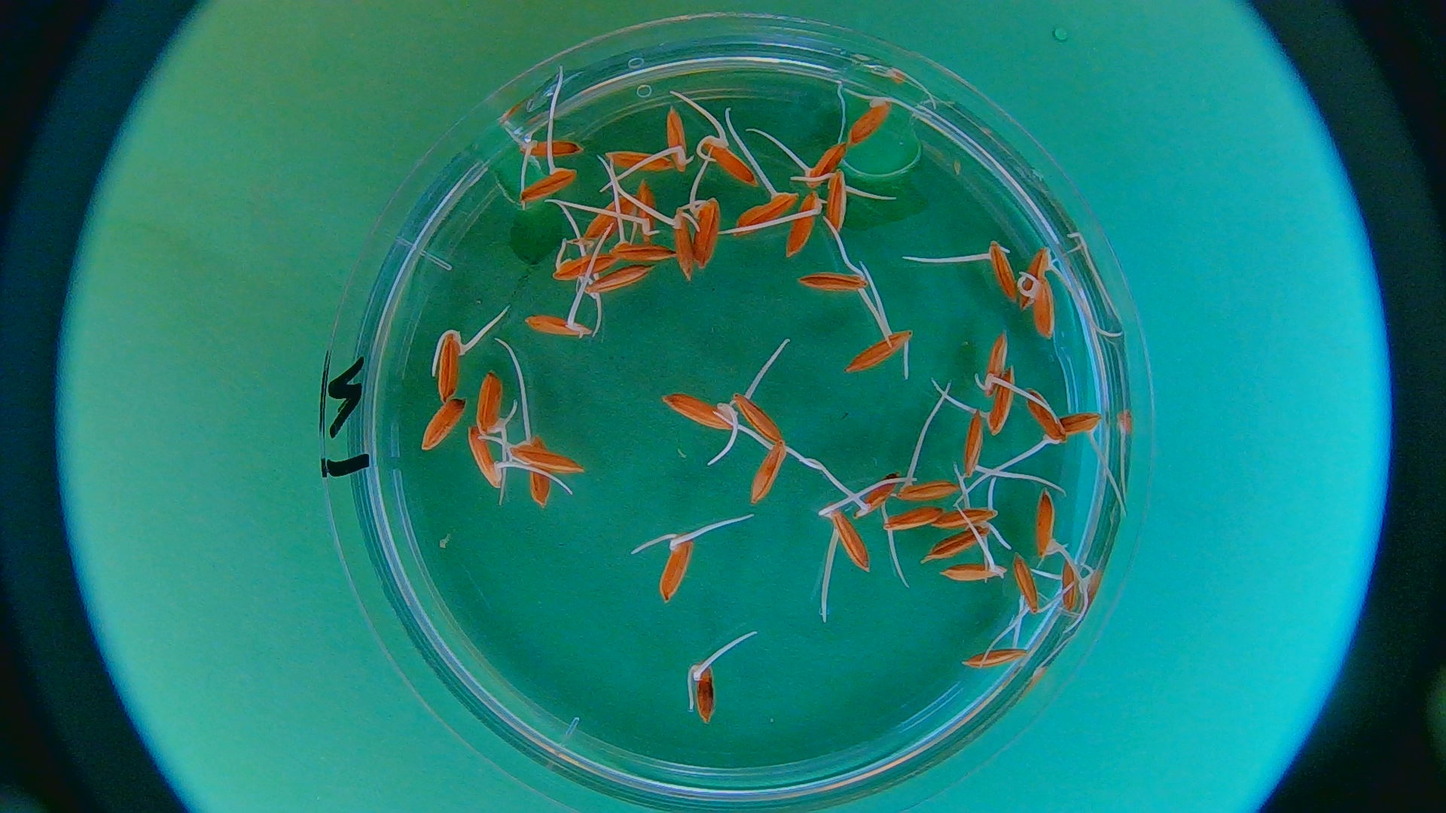no: (420, 397, 465, 453), (528, 437, 554, 510), (603, 147, 672, 172)
yes: (923, 517, 1009, 565), (848, 324, 912, 379), (663, 392, 738, 434), (697, 136, 753, 187), (732, 388, 784, 442), (1017, 244, 1060, 309), (1025, 267, 1063, 339), (750, 435, 790, 502), (584, 196, 638, 244), (685, 654, 722, 724), (465, 431, 507, 492), (1023, 391, 1063, 455), (841, 99, 893, 148), (961, 632, 1027, 670), (824, 507, 867, 564), (736, 187, 793, 230), (987, 368, 1020, 442), (473, 372, 511, 436), (659, 532, 694, 599), (662, 109, 694, 181), (982, 239, 1018, 303), (434, 329, 465, 402), (550, 248, 614, 283), (883, 505, 947, 540), (973, 333, 1008, 396), (854, 470, 898, 520), (508, 445, 581, 475), (1010, 553, 1041, 623), (822, 172, 856, 234), (800, 269, 868, 300), (1036, 488, 1066, 558), (936, 495, 996, 530), (799, 146, 849, 188), (691, 196, 719, 270), (525, 312, 591, 343), (518, 166, 576, 201), (787, 193, 822, 251), (668, 205, 695, 279), (939, 555, 1009, 583), (959, 410, 989, 474), (1056, 556, 1090, 612), (897, 474, 960, 504), (609, 233, 667, 263), (633, 180, 660, 241), (1056, 412, 1102, 446), (584, 265, 645, 290), (518, 136, 580, 158)
